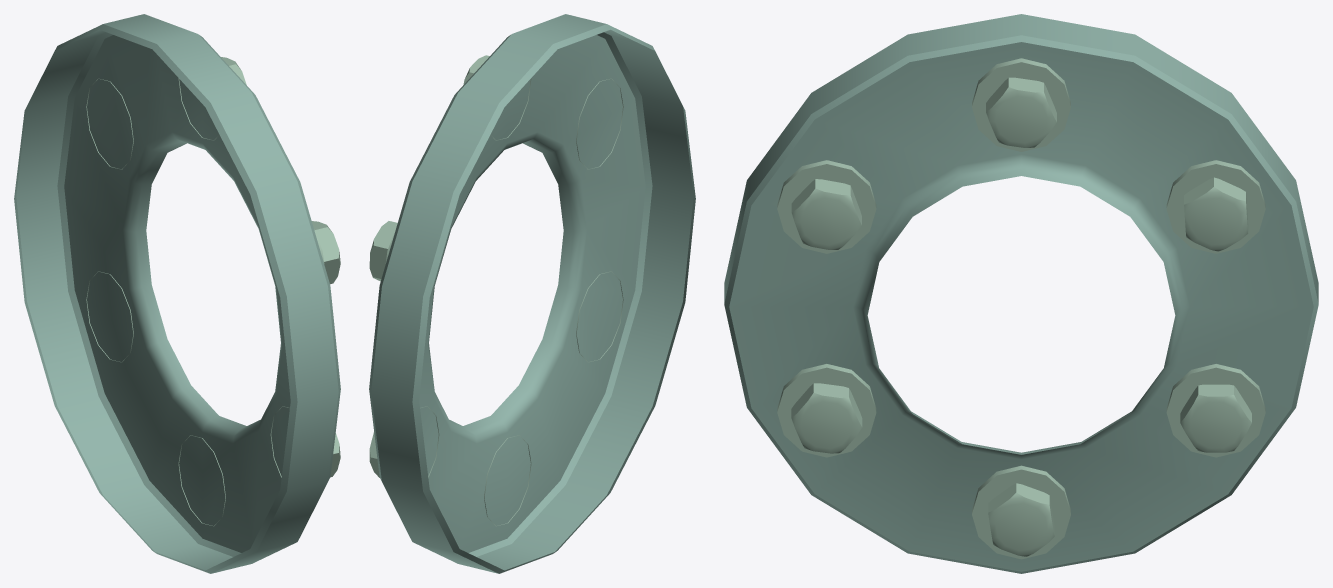
Rendered from PipeLarge_Connector_03_Half.fbx.
3 views of the same model, side by side, from view 1: azimuth 30°, elevation 25°; view 2: azimuth 150°, elevation 25°; view 3: azimuth 270°, elevation 25° (orthographic). The views are drawn at different scales.
Visible parts, largest first — view 1: PipeLarge_Connector_03_Half.001; view 2: PipeLarge_Connector_03_Half.001; view 3: PipeLarge_Connector_03_Half.001.
Boxes of the visible parts, <box> form: PipeLarge_Connector_03_Half.001: <box>14,14,340,573</box>; PipeLarge_Connector_03_Half.001: <box>369,14,695,573</box>; PipeLarge_Connector_03_Half.001: <box>724,14,1318,573</box>.
Bounding box in the file's own units: 0.0648 × 0.3846 × 0.3846.
